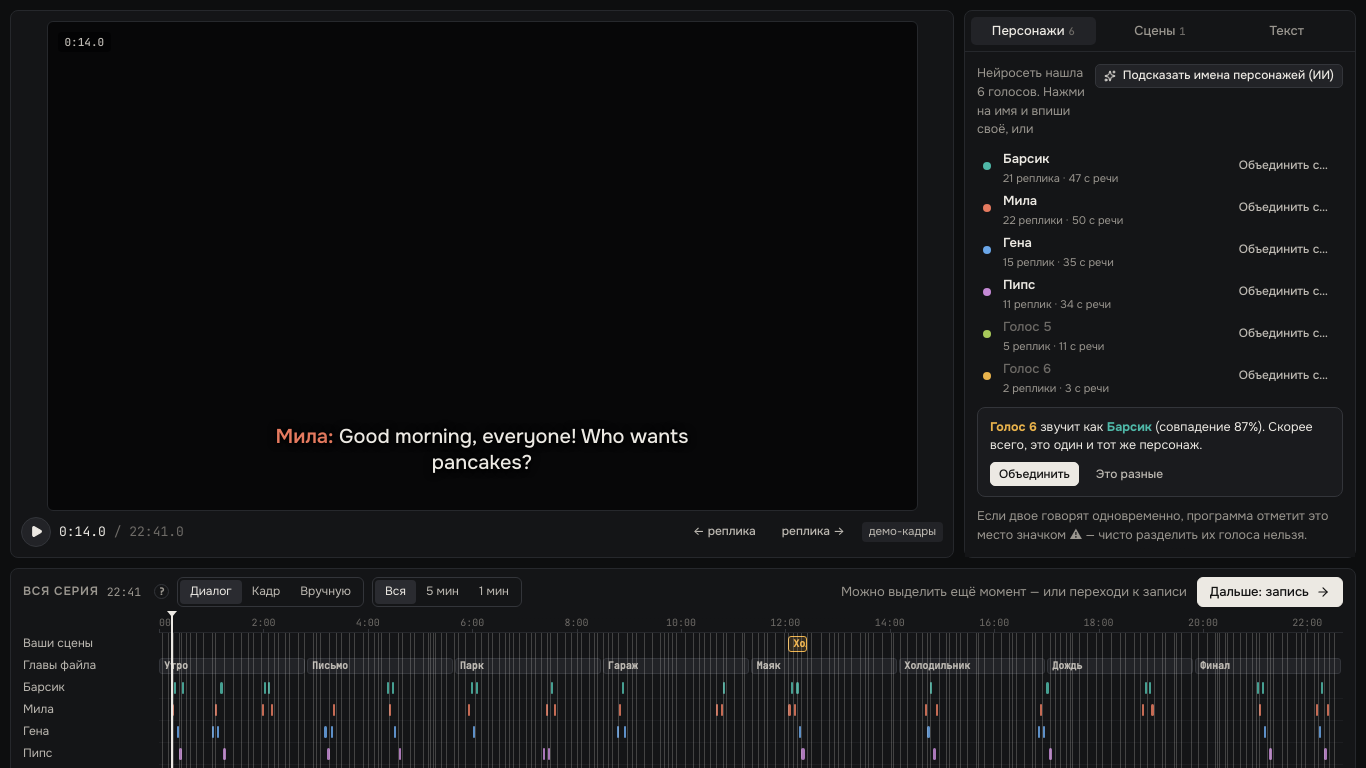
Разбор: создать сцену выделением › режим «Вручную»: протянуть на шкале
Expected: the tab "Персонажи6" is shown, left=971, top=17, right=1096, bottom=45
Click the radio button labelled "Вручную": (326, 592) left=290, top=580, right=361, bottom=604
(page scrolled)
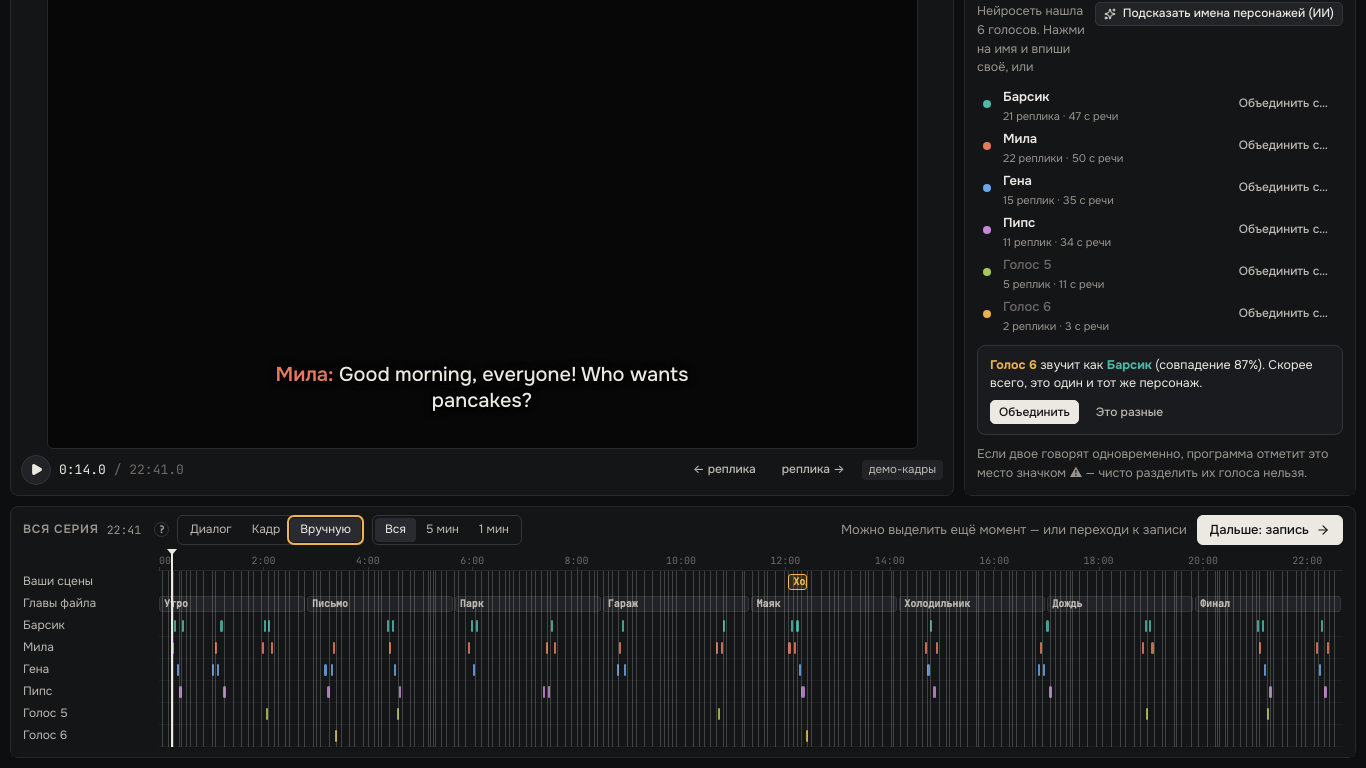
Press the mouse on the element named "Шкала видео": (751, 648) left=159, top=549, right=1343, bottom=747
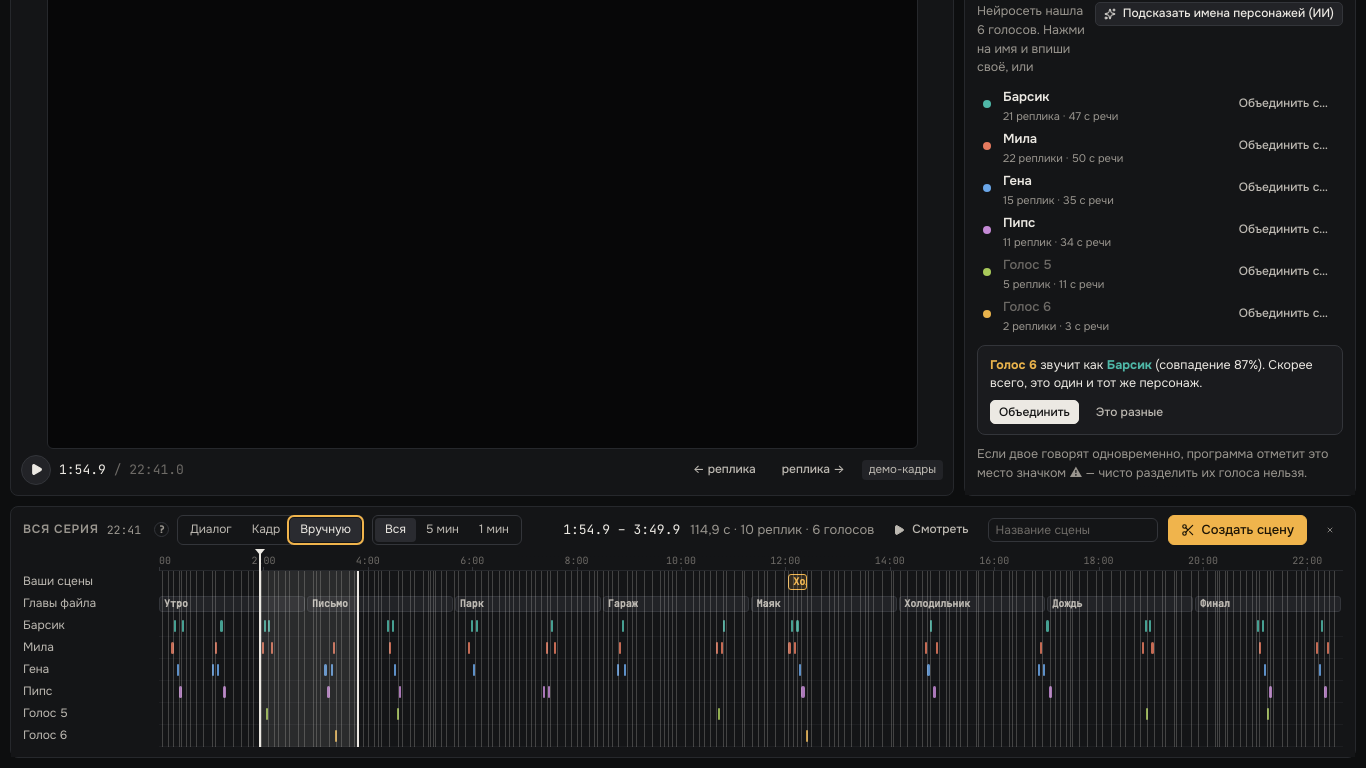
Expected: the button "Создать сцену" is shown, left=1168, top=515, right=1307, bottom=545
